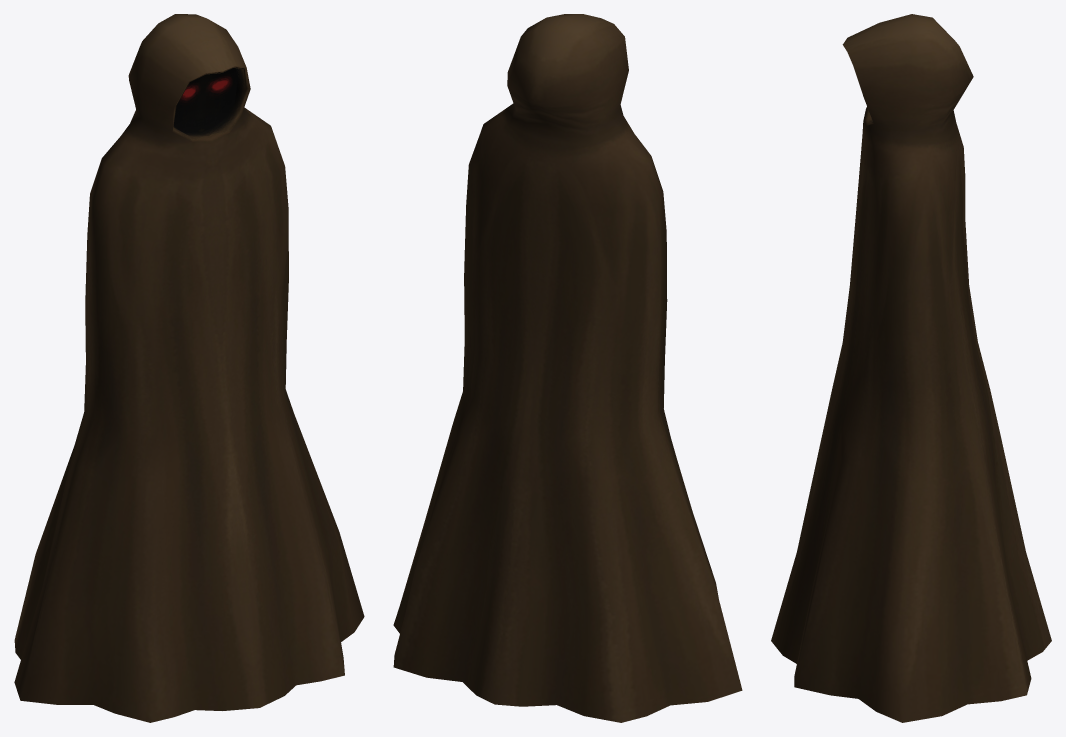
Rendered from HoodedFigure_Geo.fbx.
3 views of the same model, side by side, from view 1: azimuth 30°, elevation 25°; view 2: azimuth 150°, elevation 25°; view 3: azimuth 270°, elevation 25° (orthographic). The views are drawn at different scales.
Parts seen in each view (by area): view 1: HoodedFigure_Geo; view 2: HoodedFigure_Geo; view 3: HoodedFigure_Geo.
Boxes of the visible parts, <box> form: HoodedFigure_Geo: <box>14,14,364,722</box>; HoodedFigure_Geo: <box>393,14,742,722</box>; HoodedFigure_Geo: <box>771,14,1051,722</box>.
Bounding box in the file's own units: 102 × 180 × 73.63.
